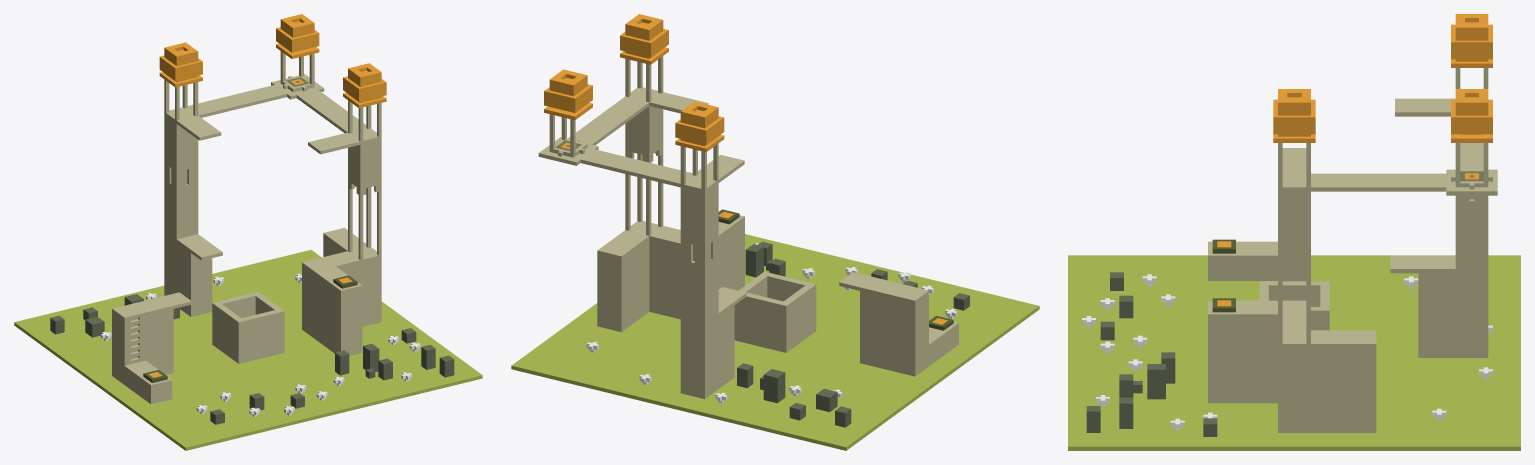
Rendered from monu9-nopillar.dae.
3 renders of one model, left to right at view 1: azimuth 30°, elevation 25°; view 2: azimuth 150°, elevation 25°; view 3: azimuth 270°, elevation 25°, orthographic. The views are drawn at different scales.
Parts seen in each view (by area): view 1: defaultobject; view 2: defaultobject; view 3: defaultobject.
Part boxes in pixels (x1,y1,x2,y2): defaultobject: (14,14,482,450); defaultobject: (511,14,1039,450); defaultobject: (1068,14,1520,450).
Bounding box in the file's own units: 97 × 79 × 97.
1 material, 1 textured.
